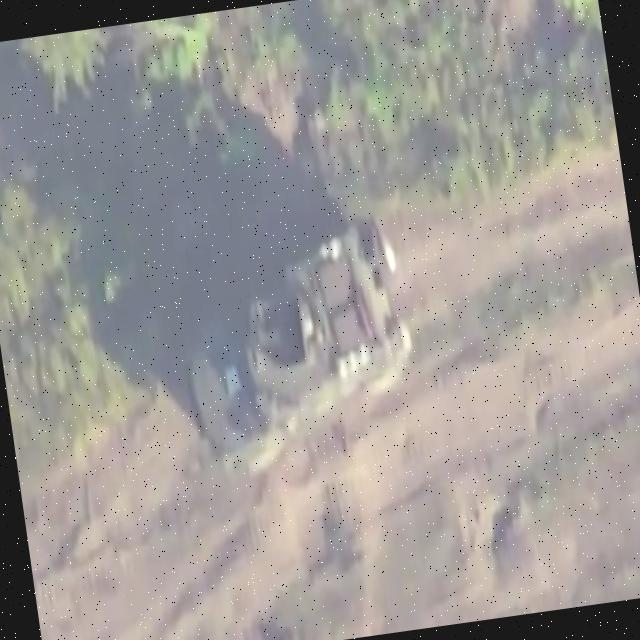Vehicle: (167, 208, 427, 485)
